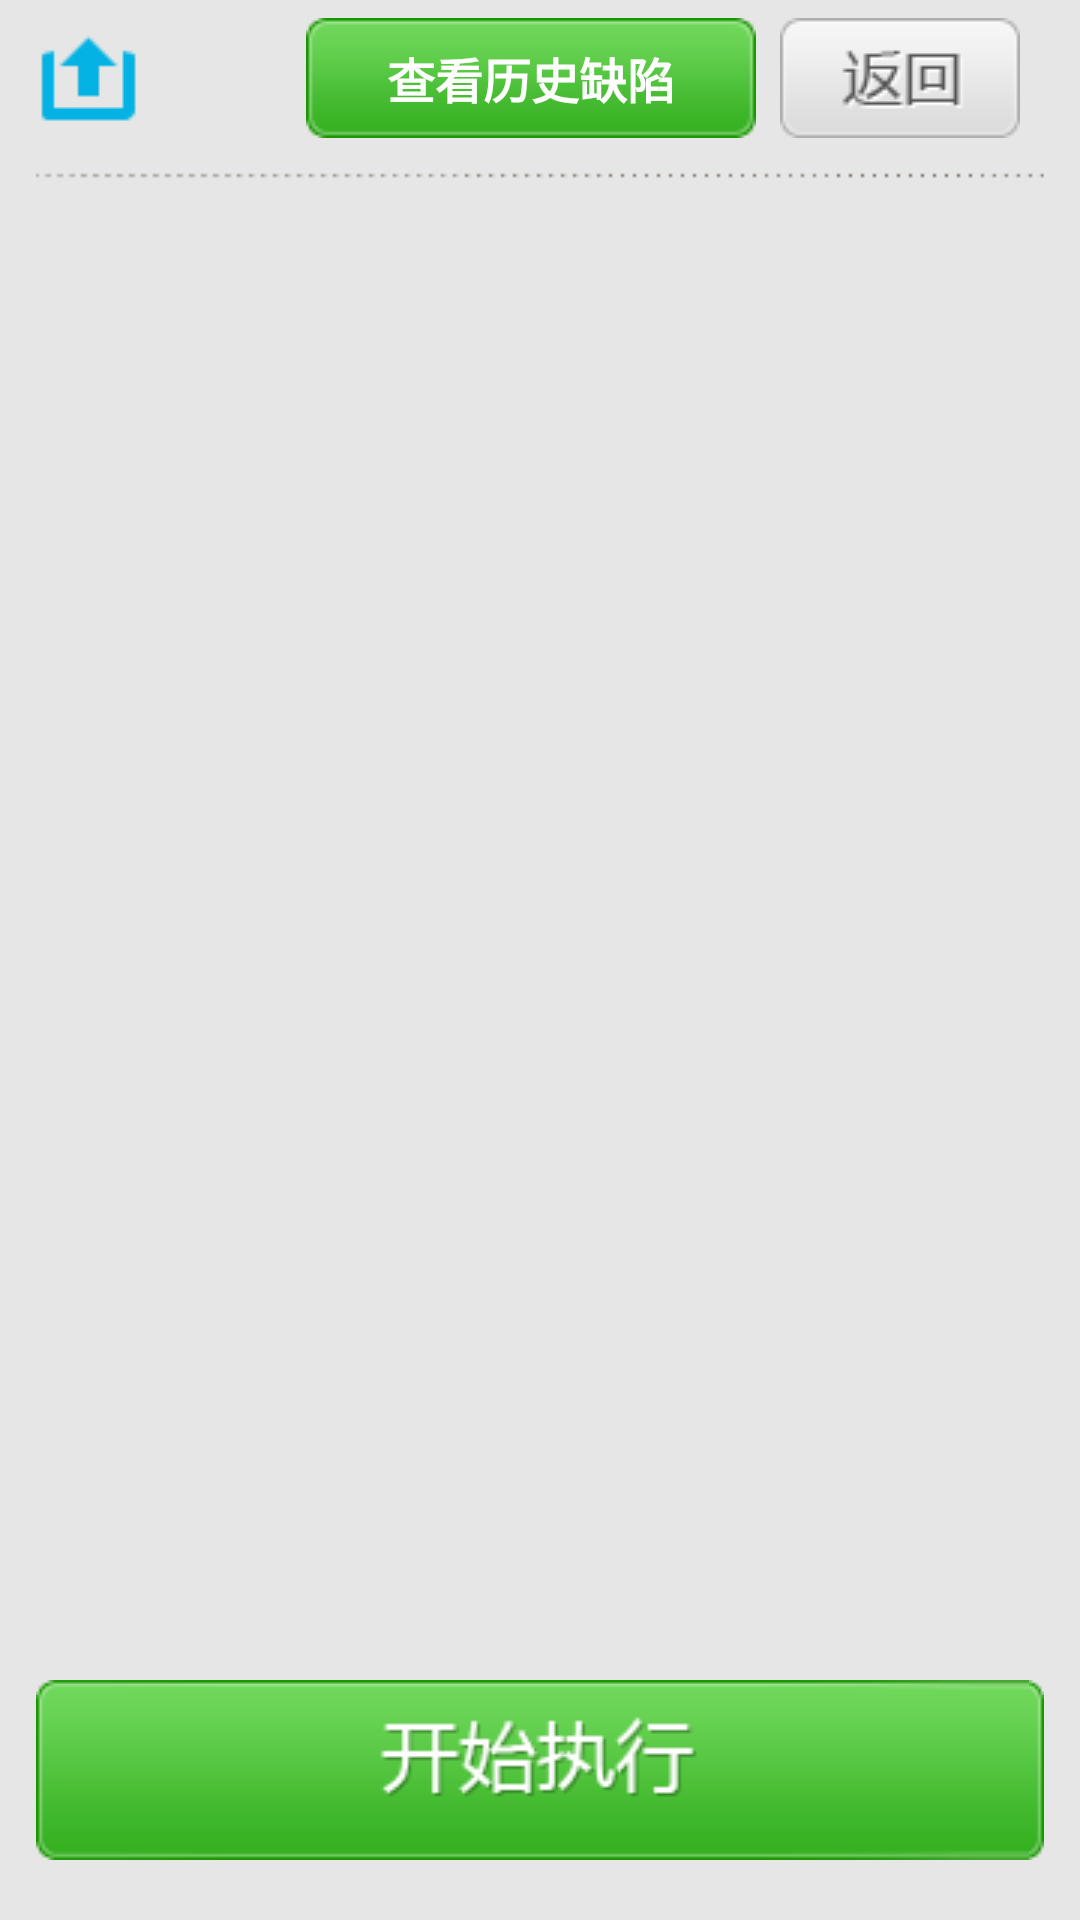

Icon click points for this 1080w x 1920h phone screenshot, format (x=x, y=y):
upload: (x=88, y=78)
